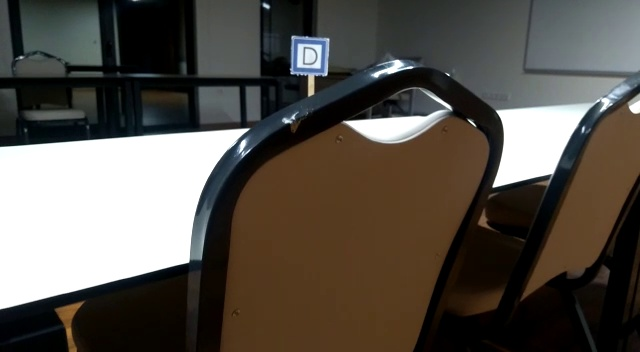durak: (291, 35, 331, 75)
